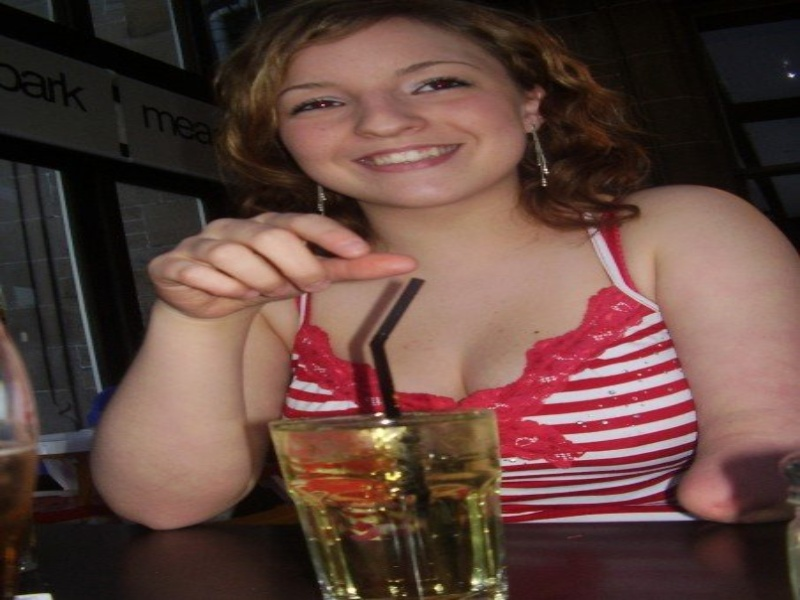face: (267, 21, 550, 214)
